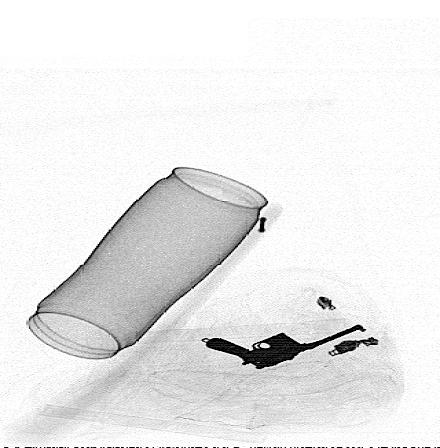Gun: (205, 324, 368, 370)
